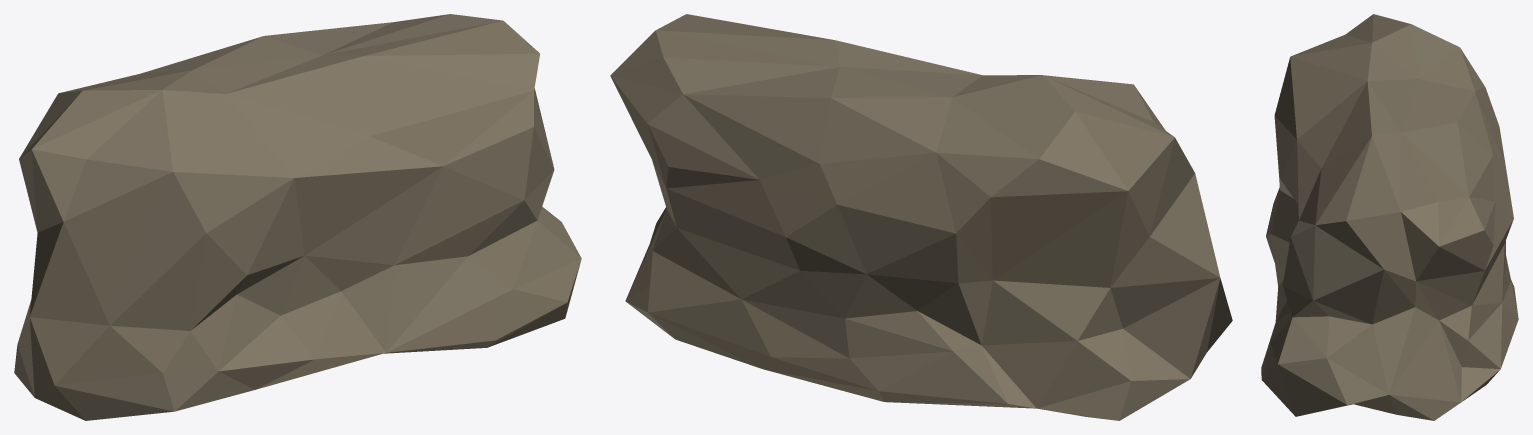
The model's file is LargeRock_4.fbx.
3 renders of one model, left to right at view 1: azimuth 30°, elevation 25°; view 2: azimuth 150°, elevation 25°; view 3: azimuth 270°, elevation 25°, orthographic. The views are drawn at different scales.
Visible parts, largest first — view 1: LargeRock_4; view 2: LargeRock_4; view 3: LargeRock_4.
Part boxes in pixels (x1,y1,x2,y2): LargeRock_4: [14, 14, 581, 420]; LargeRock_4: [610, 14, 1232, 420]; LargeRock_4: [1261, 14, 1518, 420].
Bounding box in the file's own units: 263 × 135 × 131.
